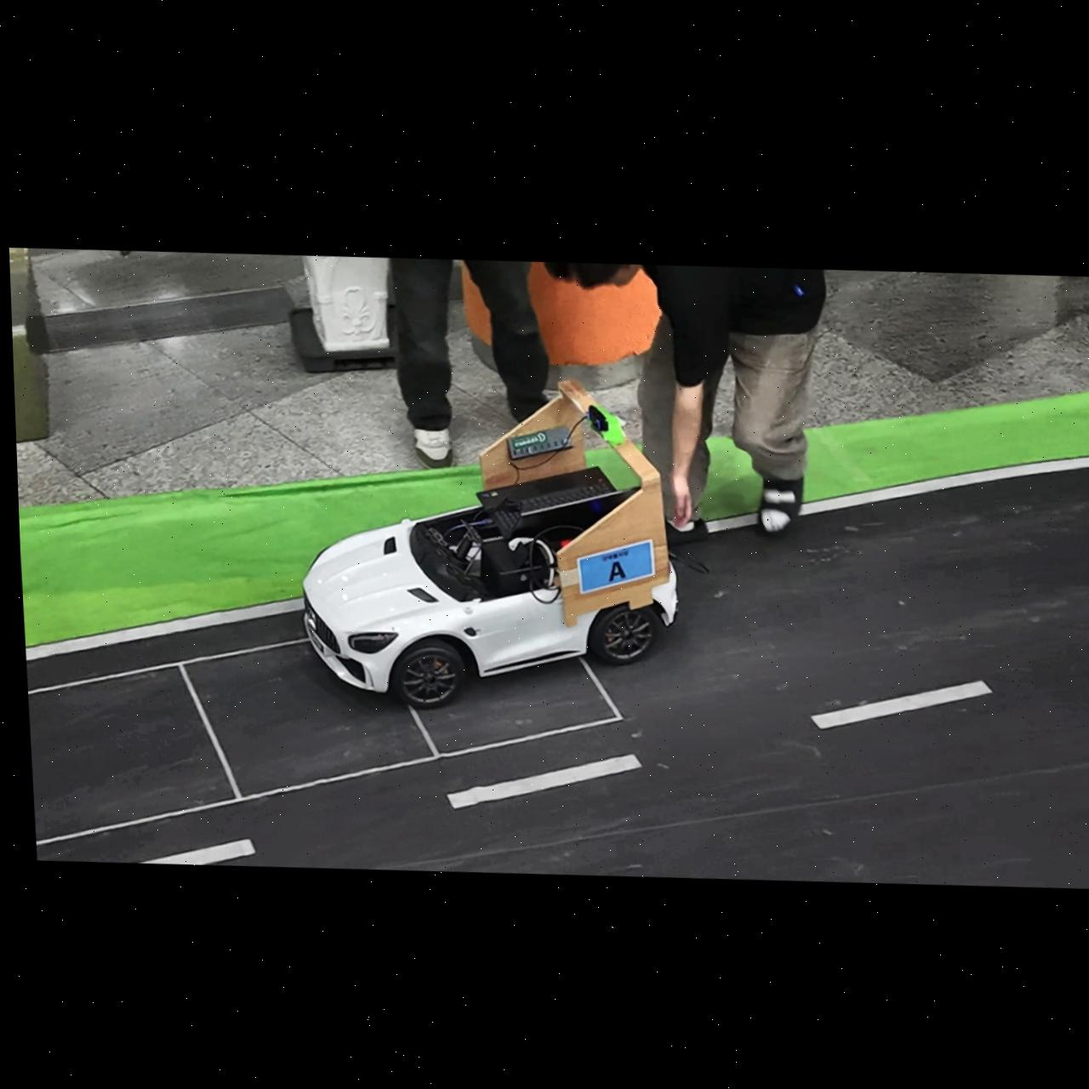broken_line: (448, 754, 642, 808), (810, 681, 993, 729), (140, 839, 256, 864)
